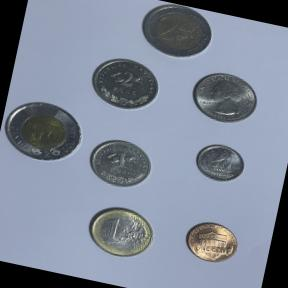coin: (0, 89, 93, 172), (81, 48, 168, 119), (131, 0, 220, 68), (79, 197, 161, 267), (182, 64, 266, 132), (184, 136, 252, 192), (178, 213, 244, 270)
